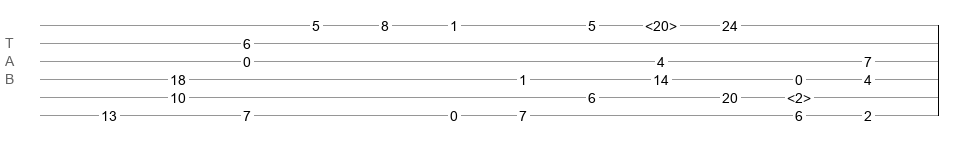0: (243, 54, 251, 64), (450, 108, 458, 118), (795, 72, 803, 82)
1: (450, 18, 458, 28), (519, 72, 527, 82)
10: (170, 90, 186, 100)
13: (101, 108, 117, 118)
14: (653, 72, 669, 82)
18: (170, 72, 186, 82)
2: (864, 108, 872, 118)
20: (722, 90, 738, 100)
24: (722, 18, 738, 28)
4: (657, 54, 665, 64), (864, 72, 872, 82)
5: (312, 18, 320, 28), (588, 18, 596, 28)
6: (243, 36, 251, 46), (588, 90, 596, 100), (795, 108, 803, 118)
7: (243, 108, 251, 118), (519, 108, 527, 118), (864, 54, 872, 64)
8: (381, 18, 389, 28)
harmonic: (645, 18, 677, 28), (787, 90, 811, 100)
